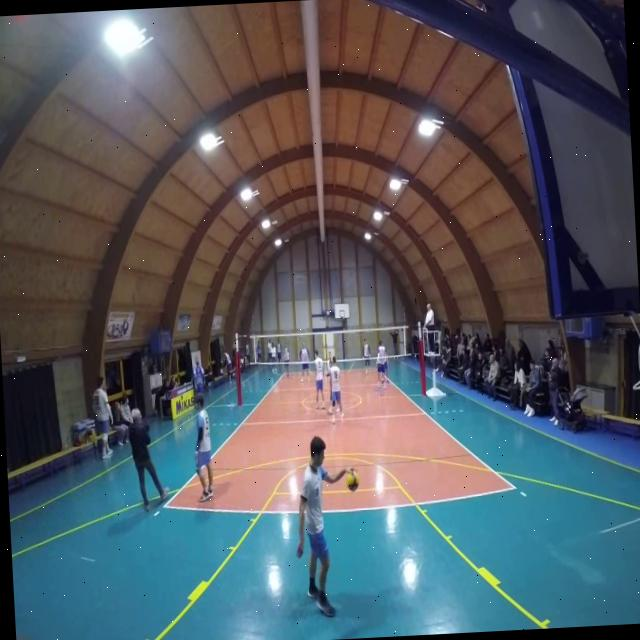Volleyball: (346, 470, 361, 494)
